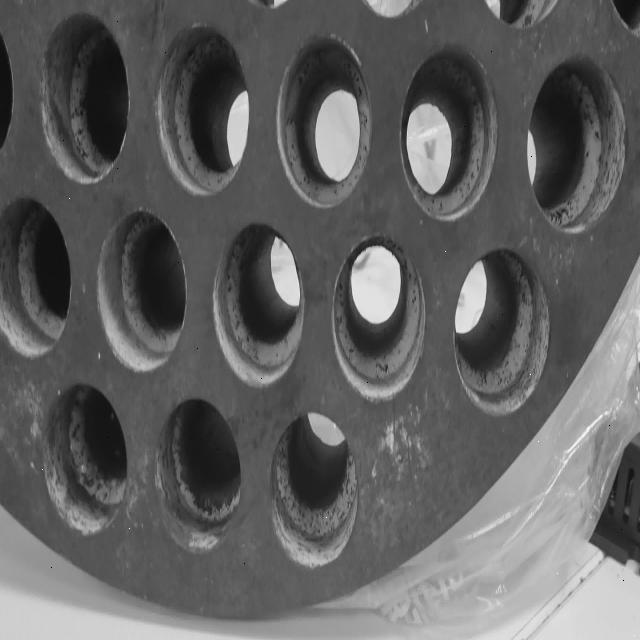Hole: (527, 55, 626, 234), (400, 43, 498, 221), (276, 32, 372, 210), (154, 24, 251, 197), (453, 248, 551, 417), (39, 11, 130, 185), (332, 235, 426, 402), (213, 220, 305, 388), (96, 208, 187, 372), (270, 412, 361, 570), (155, 396, 241, 554), (42, 382, 128, 536), (1, 195, 72, 358)
